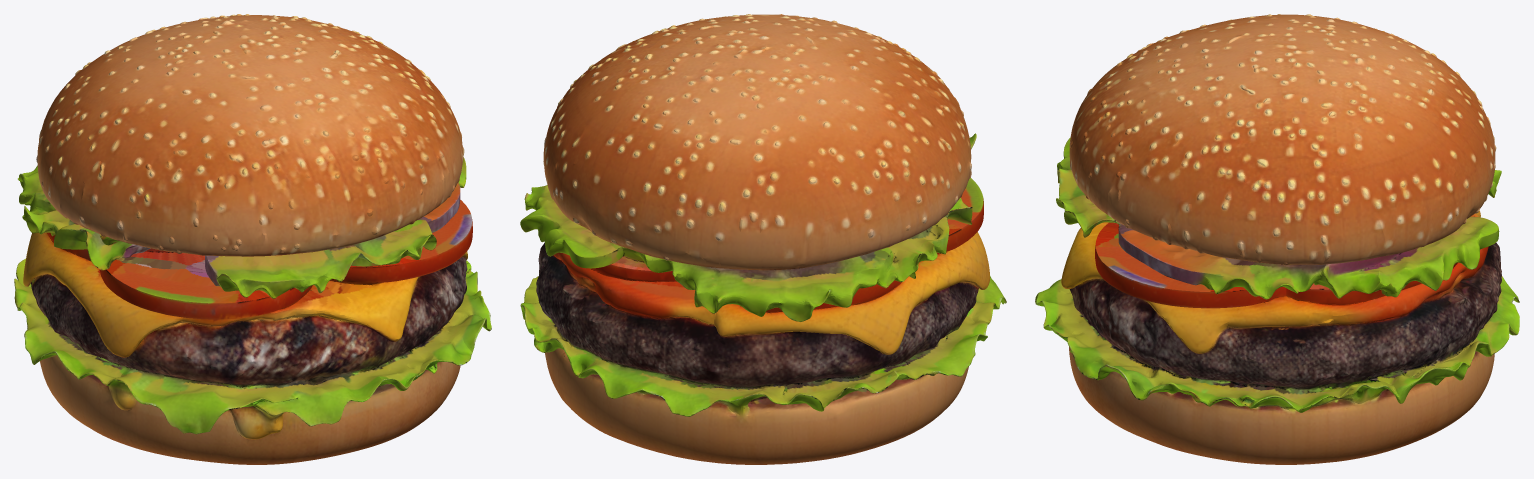
Rendered from base_basic_pbr.glb.
3 renders of one model, left to right at view 1: azimuth 30°, elevation 25°; view 2: azimuth 150°, elevation 25°; view 3: azimuth 270°, elevation 25°, orthographic.
Visible parts, largest first — view 1: model; view 2: model; view 3: model.
Part boxes in pixels (bbox=[...]): model: bbox=[14, 14, 491, 464]; model: bbox=[520, 14, 1006, 464]; model: bbox=[1035, 14, 1519, 464].
Size of the model in its own units: 1.9 by 1.48 by 1.9.
1 material, 1 textured.
